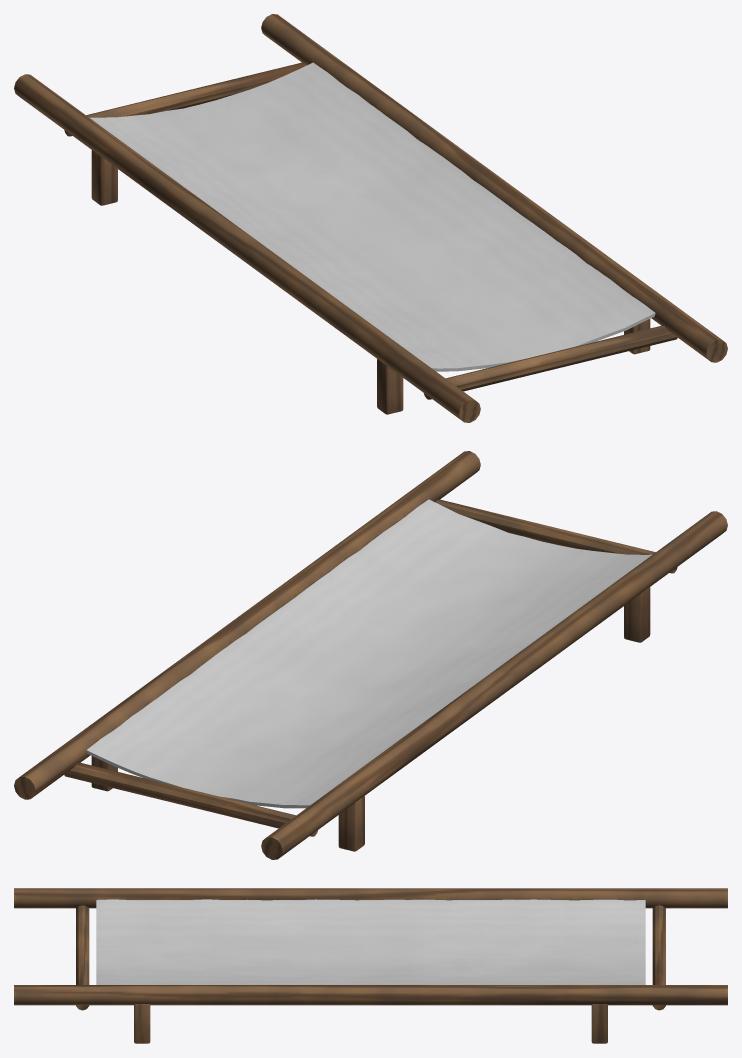
Rendered from bed_stretcher.glb.
The picture shows the model from 3 angles, top to bottom: view 1: azimuth 30°, elevation 25°; view 2: azimuth 150°, elevation 25°; view 3: azimuth 270°, elevation 25°; orthographic projection. The views are drawn at different scales.
Parts seen in each view (by area): view 1: bed_stretcher; view 2: bed_stretcher; view 3: bed_stretcher.
Part boxes in pixels (box(x1,y1,x2,y2)): bed_stretcher: box(14, 14, 727, 422); bed_stretcher: box(14, 451, 727, 859); bed_stretcher: box(14, 888, 727, 1043).
Size of the model in its own units: 0.544 by 0.132 by 1.56.
Materials: 2 (2 with a texture image).
